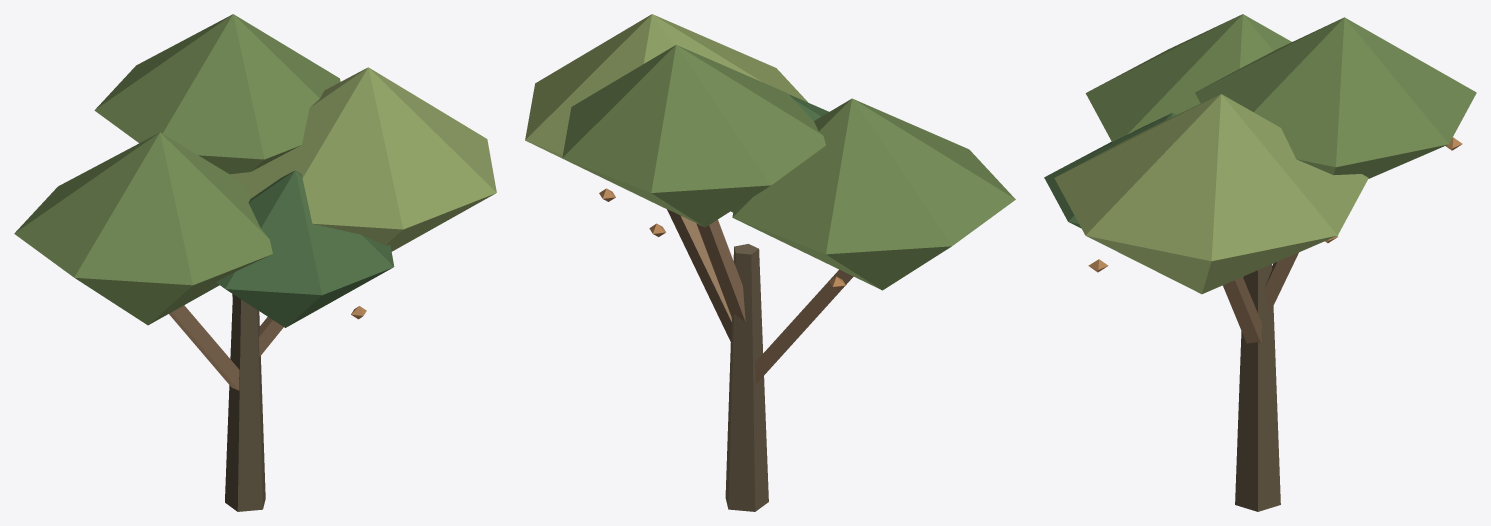
The model's file is ua_orchard_tree.obj.
The picture shows the model from 3 angles, left to right: view 1: azimuth 30°, elevation 25°; view 2: azimuth 150°, elevation 25°; view 3: azimuth 270°, elevation 25°; orthographic projection. The views are drawn at different scales.
Visible parts, largest first — view 1: ua_orchard_tree; view 2: ua_orchard_tree; view 3: ua_orchard_tree.
Part boxes in pixels (<box>): ua_orchard_tree: <box>14,14,496,511</box>; ua_orchard_tree: <box>525,14,1015,511</box>; ua_orchard_tree: <box>1044,14,1476,511</box>.
Size of the model in its own units: 2.96 by 2.97 by 2.33.
